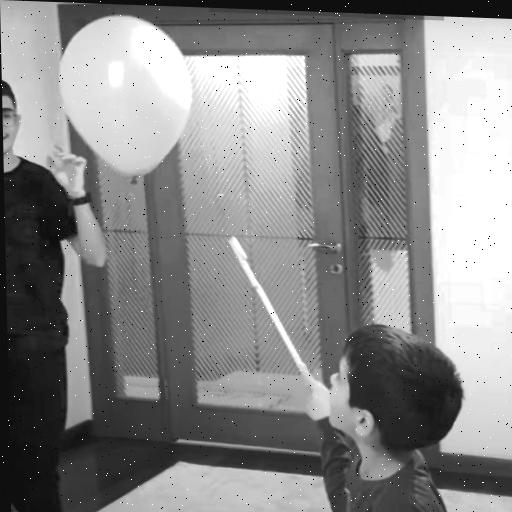balloon: (60, 10, 194, 182)
